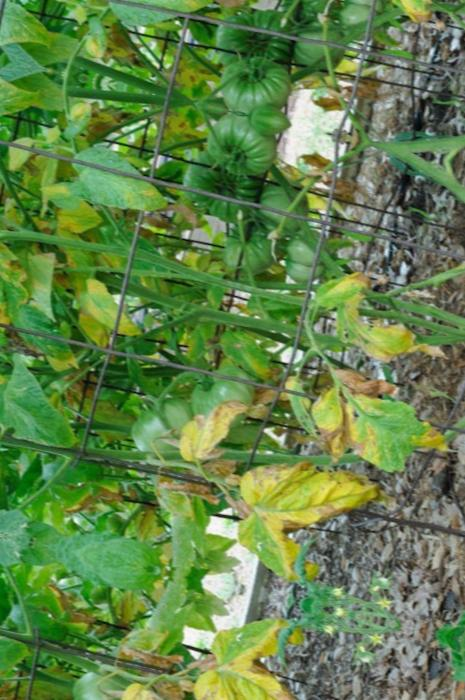Tomato Early blight leaf: (304, 364, 461, 483), (306, 251, 455, 376), (230, 448, 377, 544), (172, 384, 264, 471), (76, 276, 150, 339), (48, 195, 106, 241)
Tomato leaf: (0, 363, 85, 451), (0, 278, 23, 367)
